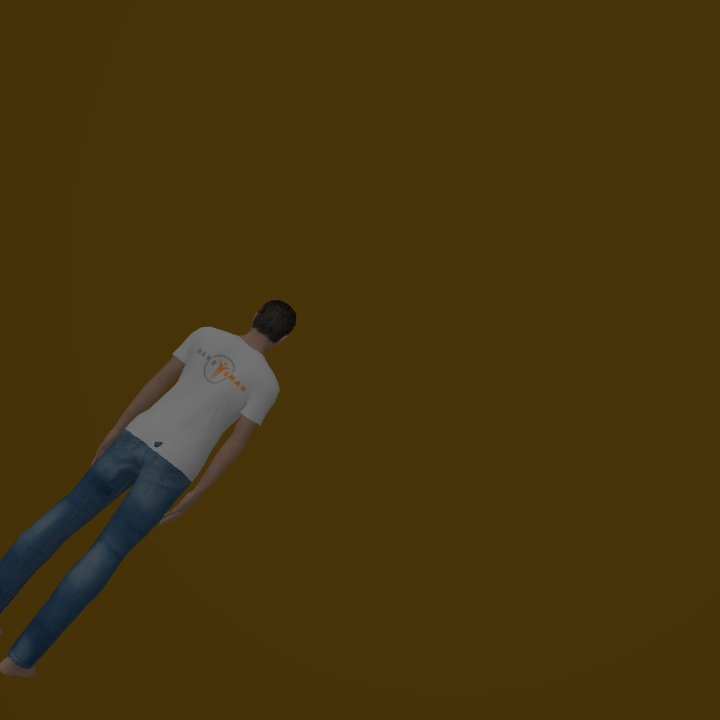victim: (1, 295, 295, 681)
